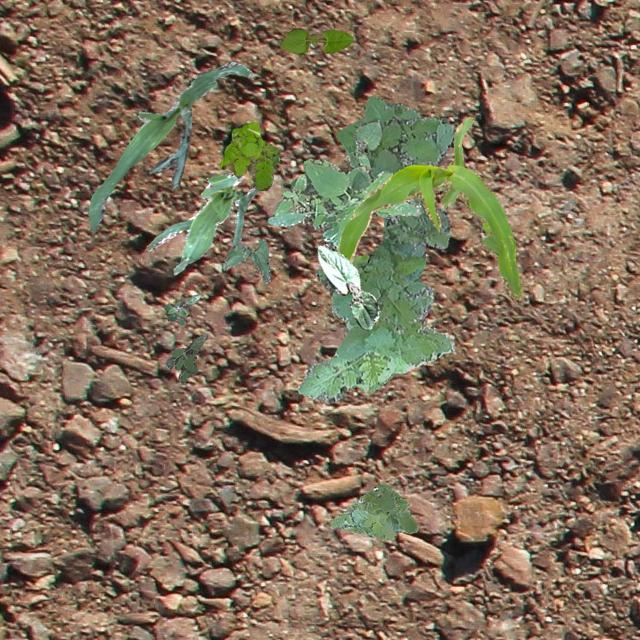crop: (336, 116, 520, 302), (87, 60, 250, 232), (143, 170, 260, 274), (316, 242, 378, 330), (222, 238, 270, 282), (278, 26, 352, 54), (346, 118, 380, 166)
weed: (296, 94, 454, 400), (266, 158, 419, 248), (330, 481, 418, 538), (218, 120, 278, 190), (164, 334, 207, 382), (164, 294, 198, 324)
